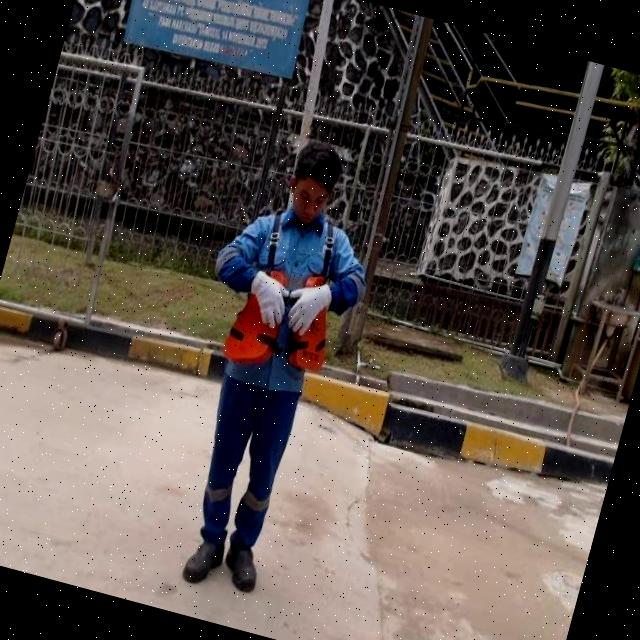vest: (222, 262, 343, 379)
